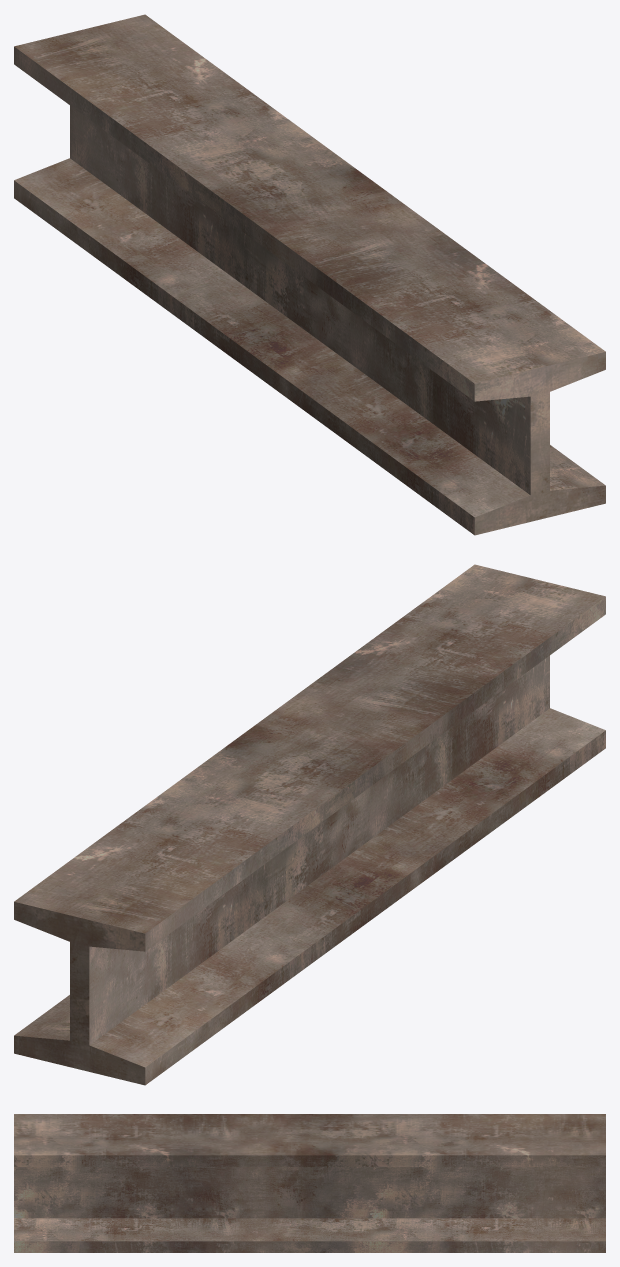
File: girder_Mesh00.fbx
3 views of the same model, one above another, from view 1: azimuth 30°, elevation 25°; view 2: azimuth 150°, elevation 25°; view 3: azimuth 270°, elevation 25° (orthographic). The views are drawn at different scales.
Parts seen in each view (by area): view 1: girder; view 2: girder; view 3: girder.
Boxes of the visible parts, x1=… form: girder: x1=14, y1=14, x2=605, y2=535; girder: x1=14, y1=564, x2=605, y2=1085; girder: x1=14, y1=1114, x2=605, y2=1252.
Bounding box in the file's own units: 21.71 × 24.01 × 132.
